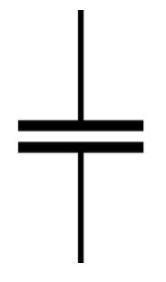Capacitor: (10, 102, 154, 173)
